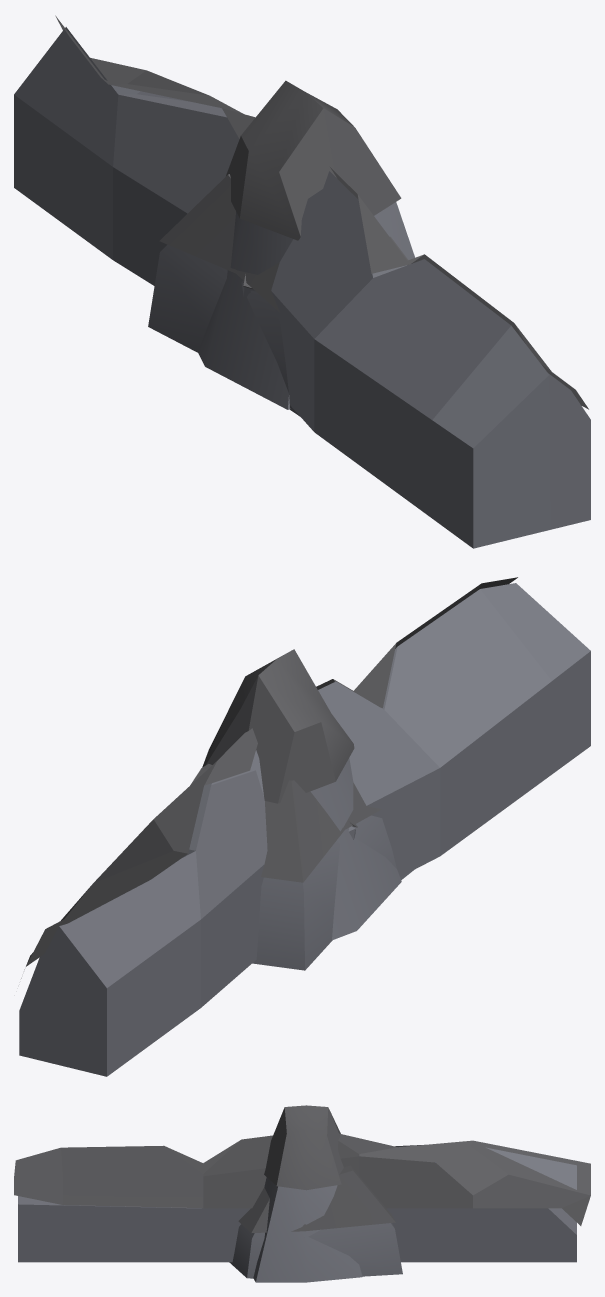
File: SM_Rocas.fbx
3 renders of one model, top to bottom at view 1: azimuth 30°, elevation 25°; view 2: azimuth 150°, elevation 25°; view 3: azimuth 270°, elevation 25°, orthographic. The views are drawn at different scales.
Parts seen in each view (by area): view 1: Muro Roca, Roca_Alta, Roca_Larga; view 2: Muro Roca, Roca_Alta, Roca_Larga; view 3: Muro Roca, Roca_Alta, Roca_Larga.
Part boxes in pixels (x1=…): Muro Roca: x1=14, y1=15, x2=590, y2=548; Roca_Alta: x1=198, y1=80, x2=414, y2=409; Roca_Larga: x1=148, y1=174, x2=407, y2=416; Muro Roca: x1=19, y1=577, x2=590, y2=1076; Roca_Alta: x1=202, y1=649, x2=401, y2=940; Roca_Larga: x1=190, y1=764, x2=413, y2=970; Muro Roca: x1=14, y1=1133, x2=590, y2=1262; Roca_Alta: x1=253, y1=1105, x2=362, y2=1282; Roca_Larga: x1=229, y1=1165, x2=402, y2=1278.
Bounding box in the file's own units: 1.02 × 1.3 × 4.54.
